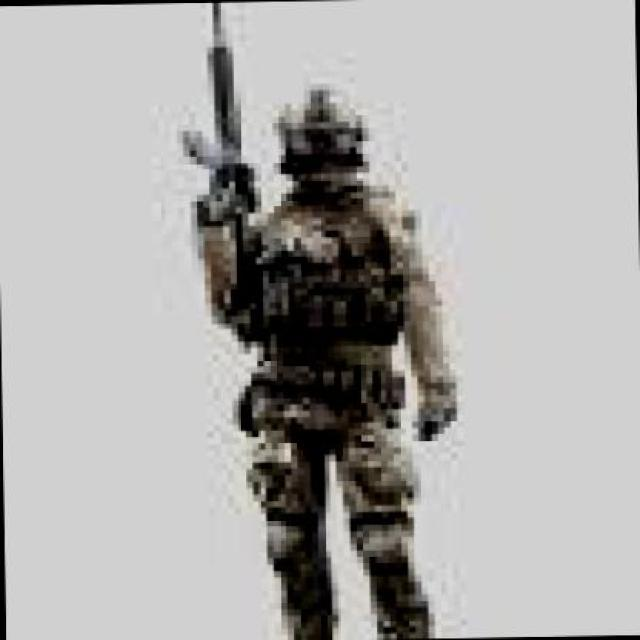MIL_Pax: (188, 69, 472, 636)
